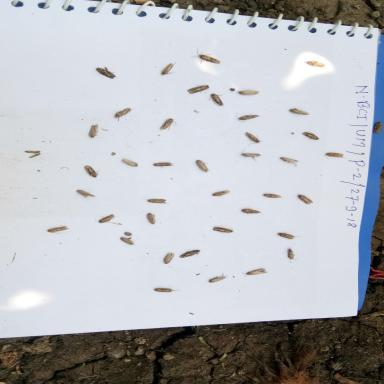pbw: (240, 267, 268, 276), (187, 83, 209, 94), (96, 67, 115, 79), (279, 156, 298, 167), (178, 249, 200, 258), (113, 107, 131, 118), (210, 92, 224, 106), (83, 164, 98, 177), (193, 160, 209, 172), (98, 213, 115, 224), (244, 131, 261, 142), (74, 189, 96, 197), (211, 226, 233, 234), (86, 124, 98, 138), (296, 194, 312, 204), (118, 236, 134, 246), (305, 60, 325, 68), (206, 275, 226, 283), (161, 62, 173, 75), (288, 108, 310, 115), (45, 225, 67, 232), (160, 118, 172, 130), (121, 158, 138, 166), (237, 89, 259, 95), (145, 212, 156, 224), (372, 121, 382, 134), (300, 132, 318, 139), (237, 114, 258, 120), (276, 232, 294, 239), (240, 208, 260, 214), (240, 153, 262, 158), (211, 190, 229, 196), (263, 192, 281, 198), (162, 253, 172, 263), (285, 248, 294, 259), (323, 152, 342, 157), (153, 287, 172, 292), (144, 199, 167, 203), (153, 162, 173, 166), (24, 150, 40, 154), (28, 153, 40, 158)
